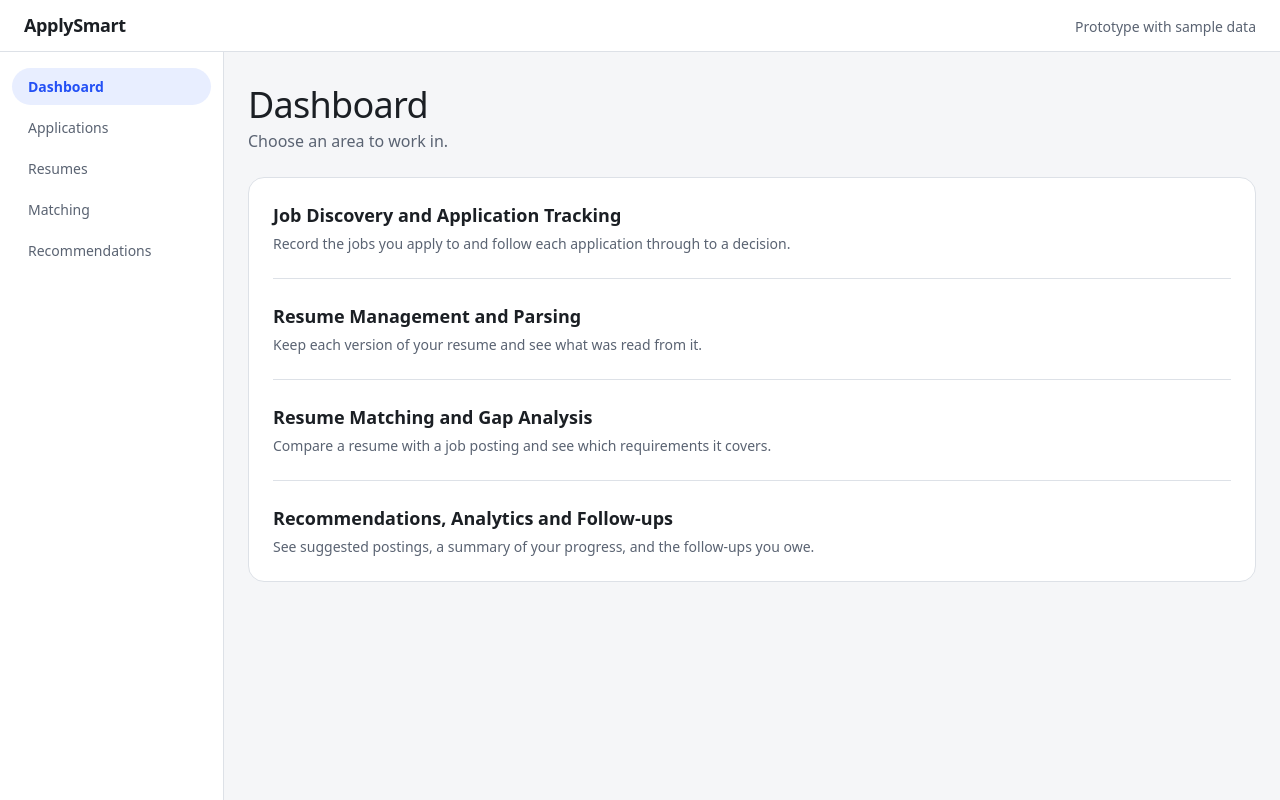
it: the "Resumes" link opens its page, marks it current and moves focus to it
Click the link "Resumes": (58, 168) [28,159,88,178]
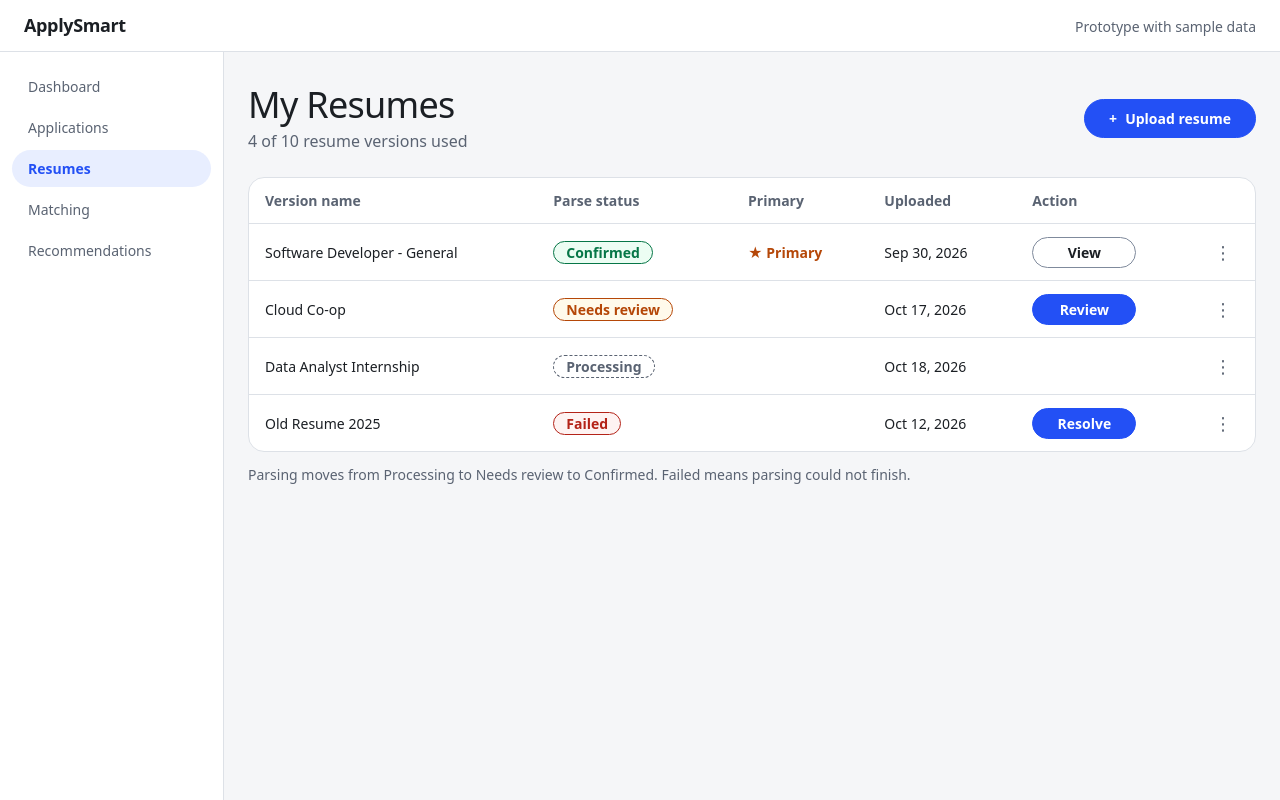
Now the heading "My Resumes" is shown, box [248,84,468,125]
